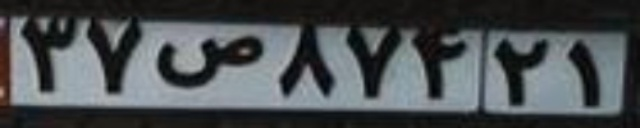1: (563, 37, 603, 108)
2: (491, 35, 553, 108)
3: (19, 12, 77, 91)
4: (410, 21, 469, 101)
7: (83, 13, 141, 95), (344, 21, 403, 99)
8: (273, 21, 335, 99)
saat: (155, 36, 264, 88)
